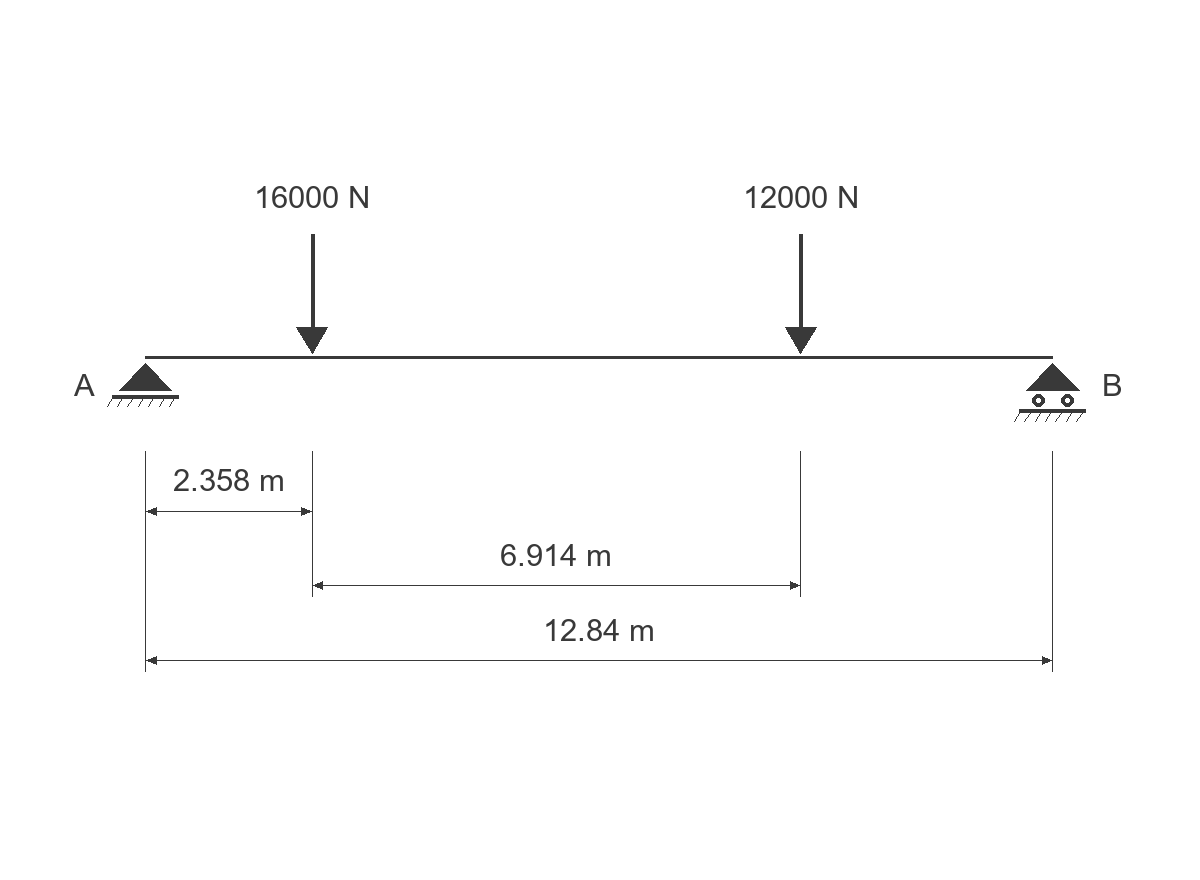pin_support: (107, 363, 179, 407)
point_load: (296, 234, 328, 354), (785, 234, 817, 354)
roller_support: (1014, 363, 1086, 422)
